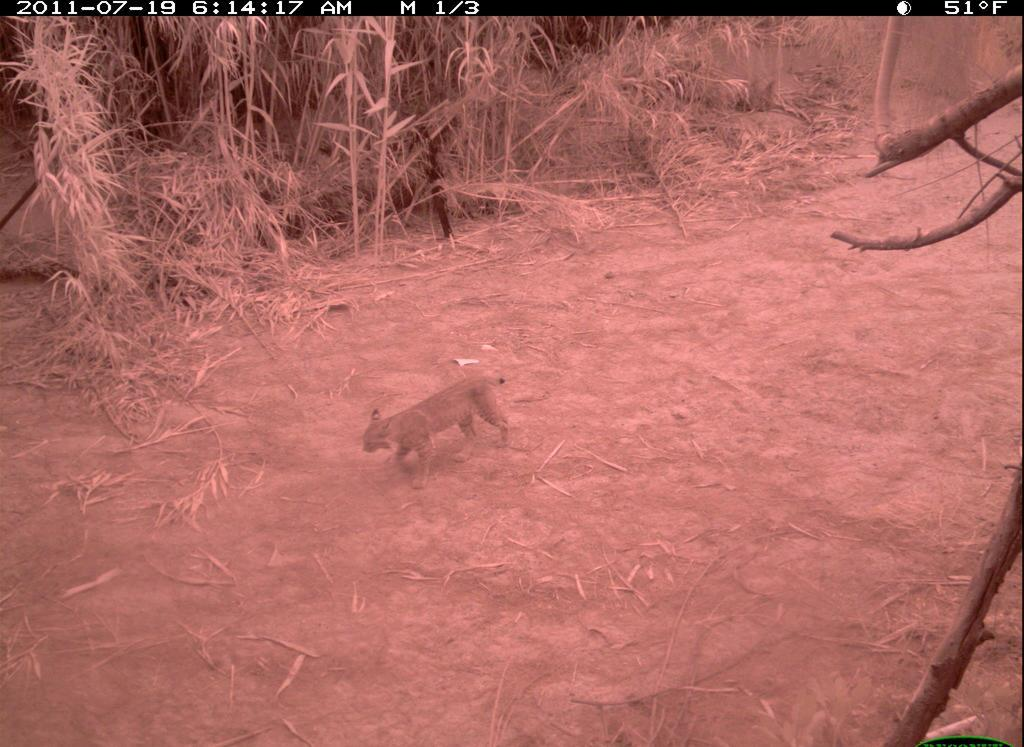bobcat: (360, 369, 520, 489)
